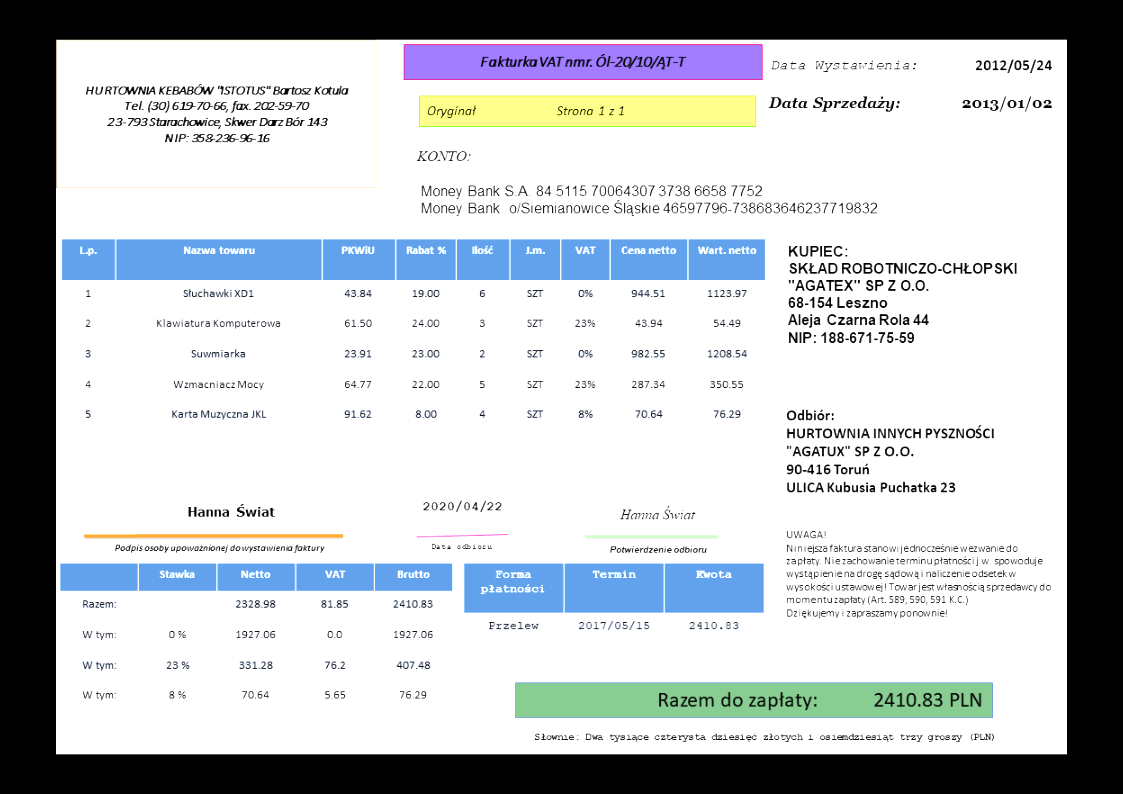Table: (60, 237, 768, 435), (57, 560, 456, 716), (462, 561, 764, 651)
TextBox: (782, 526, 1054, 621), (784, 240, 1019, 347), (783, 405, 997, 497), (418, 178, 881, 218), (82, 82, 351, 147), (655, 686, 985, 712), (532, 728, 997, 746), (423, 101, 628, 122), (476, 52, 691, 70), (767, 93, 903, 116), (112, 540, 330, 554), (767, 58, 919, 75), (961, 94, 1058, 114), (419, 496, 505, 517), (183, 501, 278, 520), (971, 56, 1056, 76), (618, 504, 699, 523), (605, 543, 710, 556), (413, 145, 474, 165), (429, 539, 494, 552)
